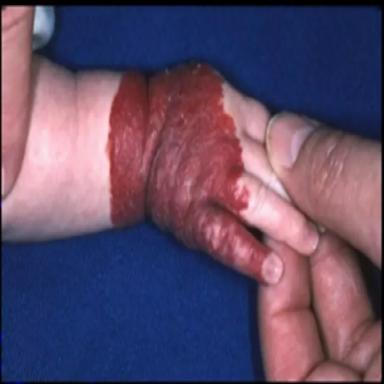Hemangiome: (109, 64, 266, 278)
